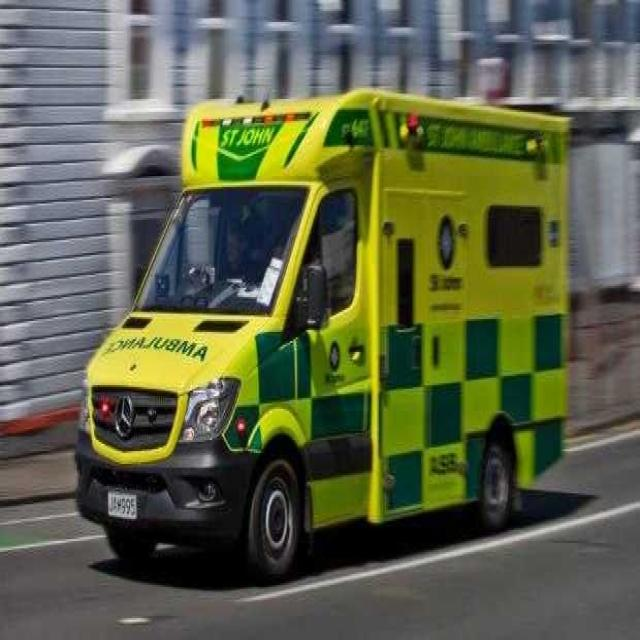ambulance: (50, 71, 610, 616)
